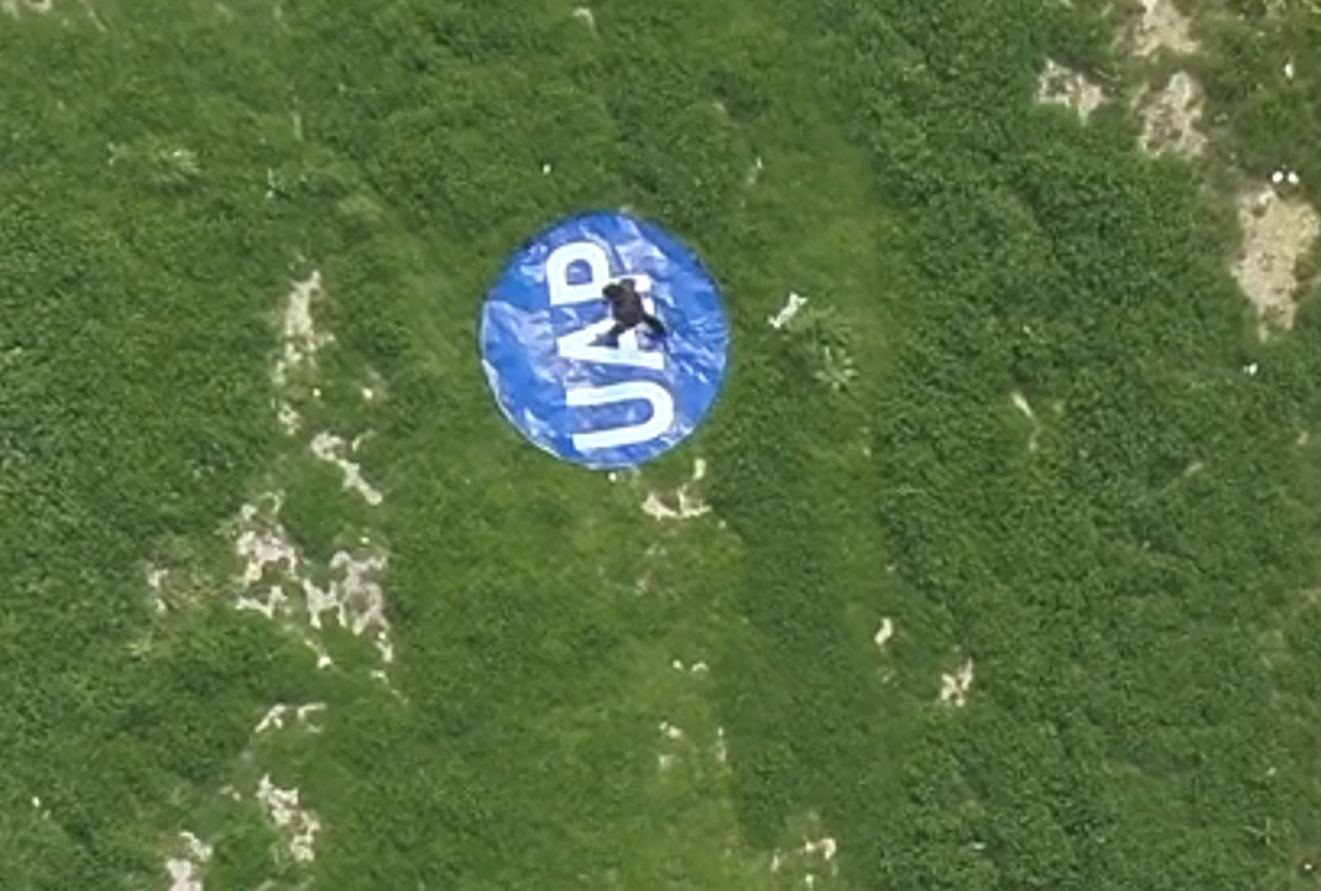UAP: (479, 211, 733, 468)
person: (600, 276, 670, 353)
